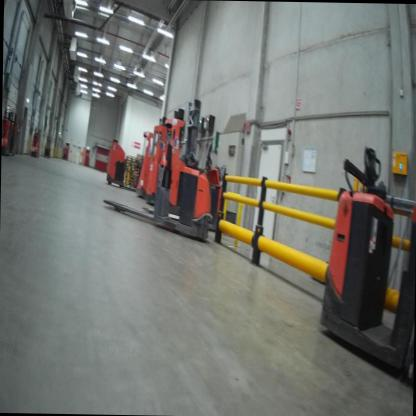forklift: (165, 112, 228, 218), (147, 126, 182, 207), (132, 124, 156, 203)
pallet_truck: (314, 132, 416, 388), (97, 132, 217, 245), (101, 135, 145, 198), (2, 103, 24, 157), (28, 124, 45, 164), (41, 131, 55, 155)
